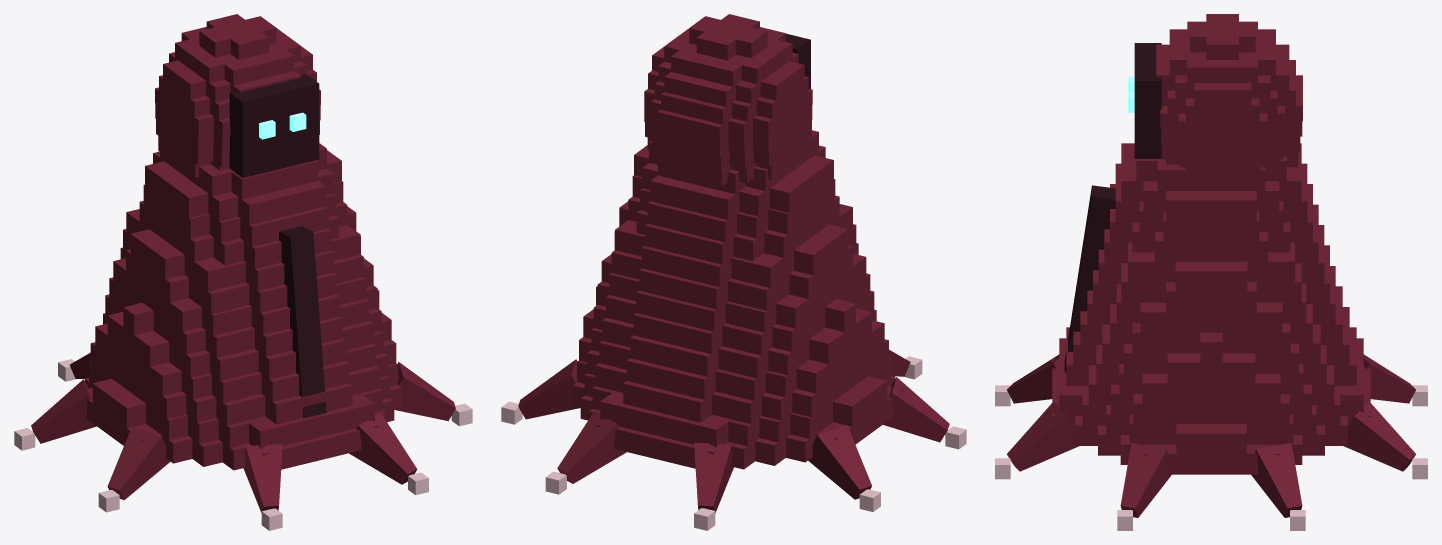
3 renders of one model, left to right at view 1: azimuth 30°, elevation 25°; view 2: azimuth 150°, elevation 25°; view 3: azimuth 270°, elevation 25°, orthographic. The views are drawn at different scales.
Visible parts, largest first — view 1: R046_Main, R046_Accent, R046_Trim, R046_Glow; view 2: R046_Main, R046_Trim, R046_Accent; view 3: R046_Main, R046_Accent, R046_Trim.
Boxes of the visible parts, x1=… form: R046_Main: x1=31, y1=14, x2=455, y2=512; R046_Accent: x1=229, y1=74, x2=326, y2=418; R046_Trim: x1=14, y1=359, x2=472, y2=530; R046_Glow: x1=259, y1=112, x2=306, y2=139; R046_Main: x1=518, y1=14, x2=949, y2=512; R046_Trim: x1=501, y1=356, x2=966, y2=530; R046_Accent: x1=785, y1=33, x2=810, y2=88; R046_Main: x1=1007, y1=14, x2=1415, y2=517; R046_Accent: x1=1064, y1=43, x2=1161, y2=372; R046_Trim: x1=995, y1=385, x2=1427, y2=530.
Bounding box in the file's own units: 1.92 × 2 × 1.92.
